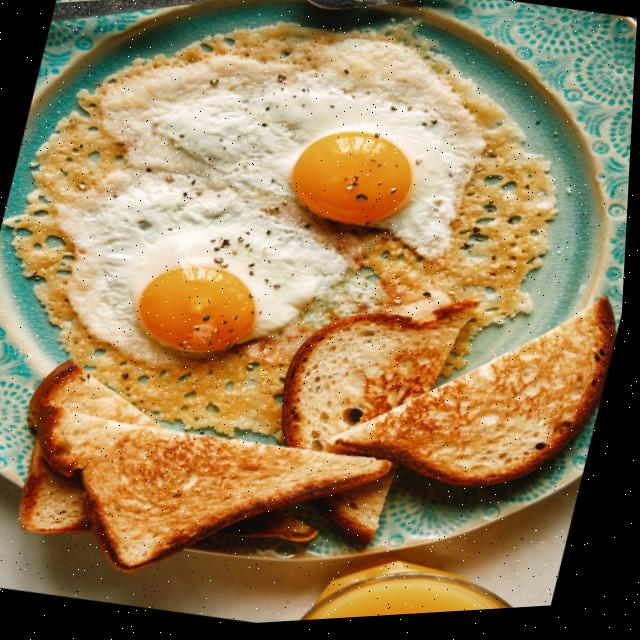Bread: (331, 305, 620, 493), (86, 430, 395, 574), (285, 305, 481, 458)
Egg: (158, 74, 485, 262), (65, 185, 350, 367)
